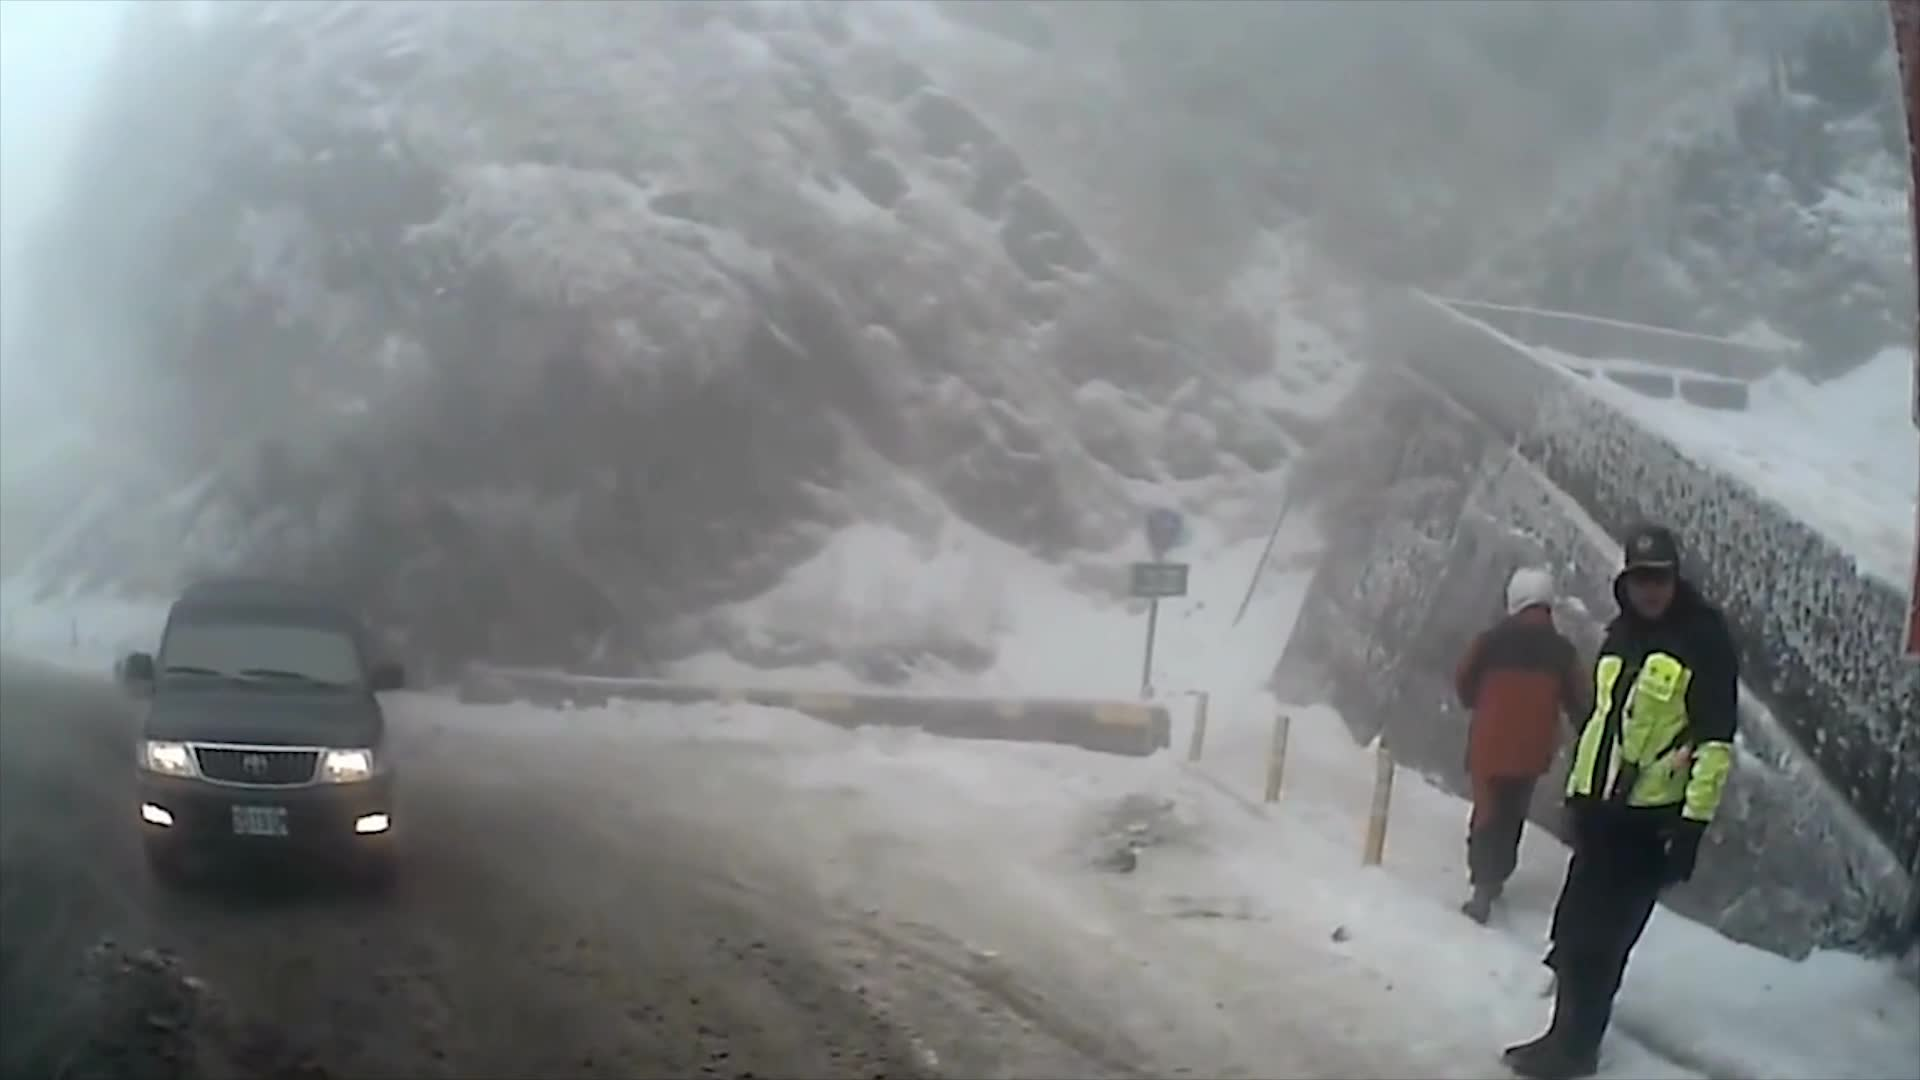pedestrian: (1516, 519, 1750, 1072), (1458, 560, 1595, 916)
vehicle: (123, 579, 405, 890)
